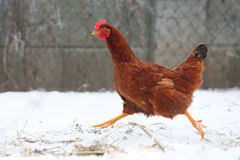chicken: (91, 19, 209, 142)
